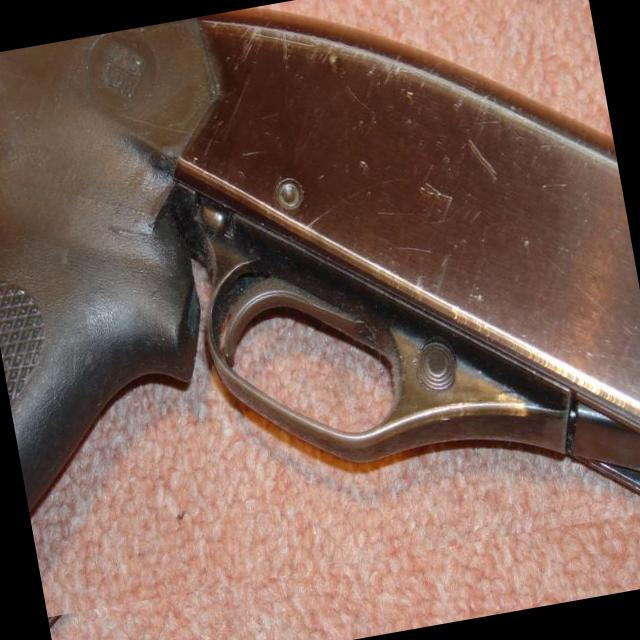Gun: (0, 9, 640, 508)
